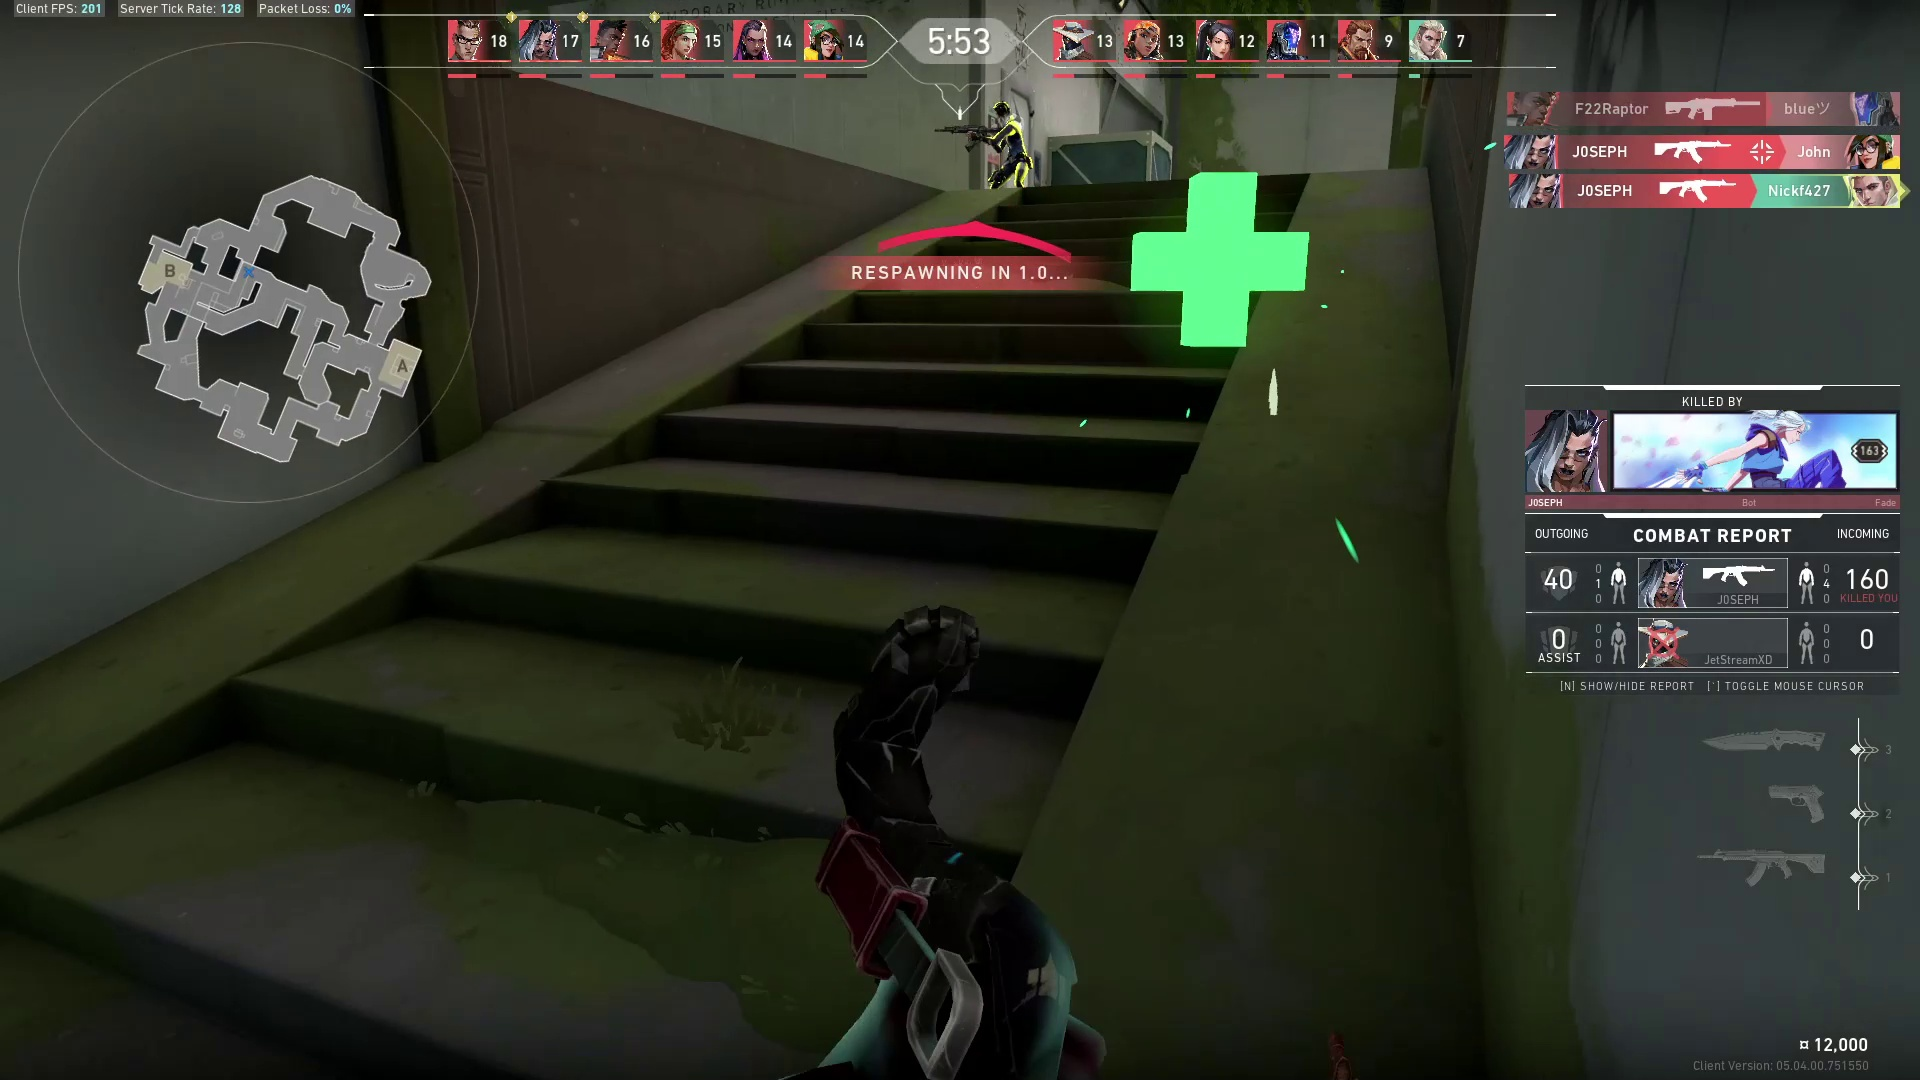enemy_body: (960, 121, 1044, 194)
enemy_head: (984, 99, 1019, 126)
